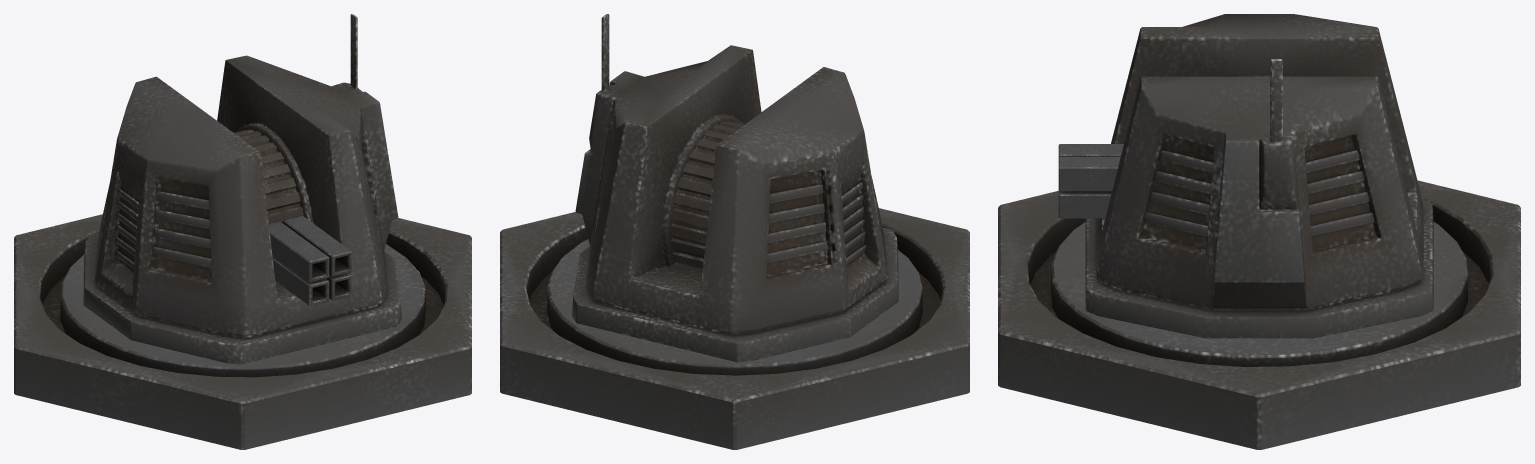
The model's file is turret.fbx.
3 renders of one model, left to right at view 1: azimuth 30°, elevation 25°; view 2: azimuth 150°, elevation 25°; view 3: azimuth 270°, elevation 25°, orthographic. The views are drawn at different scales.
Parts seen in each view (by area): view 1: Turret_Main.001, Turret_Base.001, Turret_Cannon.001; view 2: Turret_Main.001, Turret_Base.001, Turret_Cannon.001; view 3: Turret_Main.001, Turret_Base.001, Turret_Cannon.001.
Boxes of the visible parts, box(x1,y1,x2,y2) form: Turret_Main.001: box(83, 14, 401, 364); Turret_Base.001: box(14, 214, 471, 449); Turret_Cannon.001: box(234, 129, 351, 305); Turret_Main.001: box(572, 14, 898, 362); Turret_Base.001: box(500, 208, 969, 449); Turret_Cannon.001: box(670, 121, 743, 268); Turret_Main.001: box(1085, 14, 1433, 338); Turret_Base.001: box(998, 180, 1520, 449); Turret_Cannon.001: box(1058, 144, 1123, 218).
Bounding box in the file's own units: 12.95 × 7.84 × 11.26.
1 material, 1 textured.
